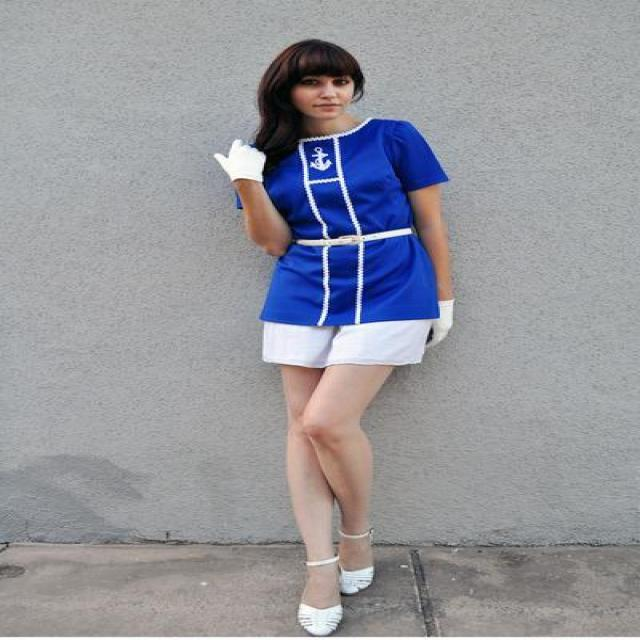dress: (261, 119, 440, 336)
shoe: (288, 566, 373, 639)
shorts: (262, 300, 453, 365)
